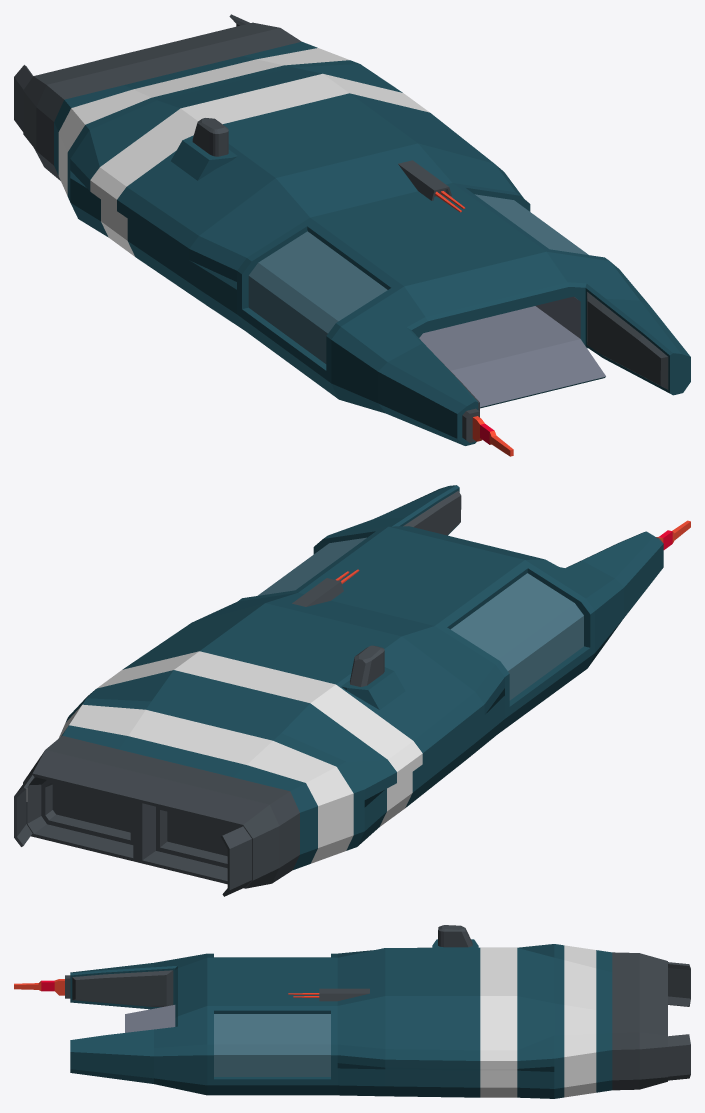
The model's file is light_carrier.glb.
3 renders of one model, top to bottom at view 1: azimuth 30°, elevation 25°; view 2: azimuth 150°, elevation 25°; view 3: azimuth 270°, elevation 25°, orthographic. The views are drawn at different scales.
Visible parts, largest first — view 1: Hull; view 2: Hull; view 3: Hull.
Boxes of the visible parts, x1=… form: Hull: x1=14, y1=14, x2=690, y2=456; Hull: x1=14, y1=485, x2=690, y2=896; Hull: x1=14, y1=925, x2=690, y2=1098.
Bounding box in the file's own units: 18.1 × 7.22 × 47.42.
1 material, 1 textured.
